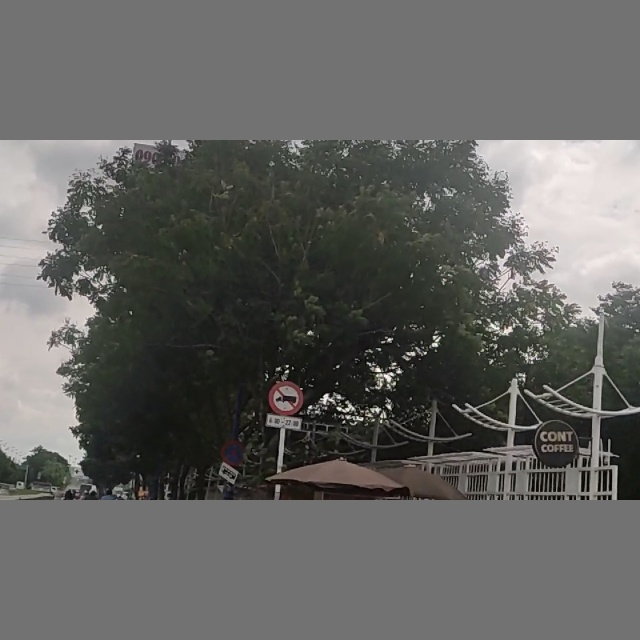B.8a: (269, 383, 305, 431)
